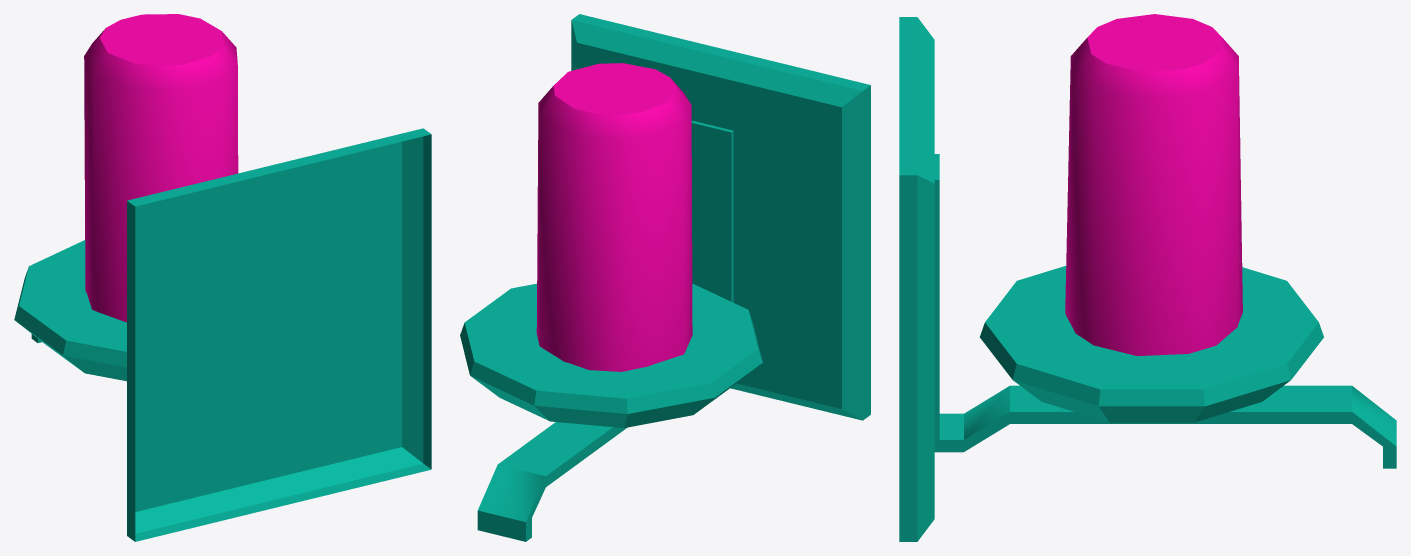
Rendered from Lamp.FBX.
3 views of the same model, side by side, from view 1: azimuth 30°, elevation 25°; view 2: azimuth 150°, elevation 25°; view 3: azimuth 270°, elevation 25° (orthographic). The views are drawn at different scales.
Parts seen in each view (by area): view 1: Box006; view 2: Box006; view 3: Box006.
Part boxes in pixels (x1,y1,x2,y2): Box006: [14, 14, 431, 541]; Box006: [460, 14, 870, 541]; Box006: [899, 14, 1396, 541].
Bounding box in the file's own units: 35.47 × 43.64 × 47.11.
